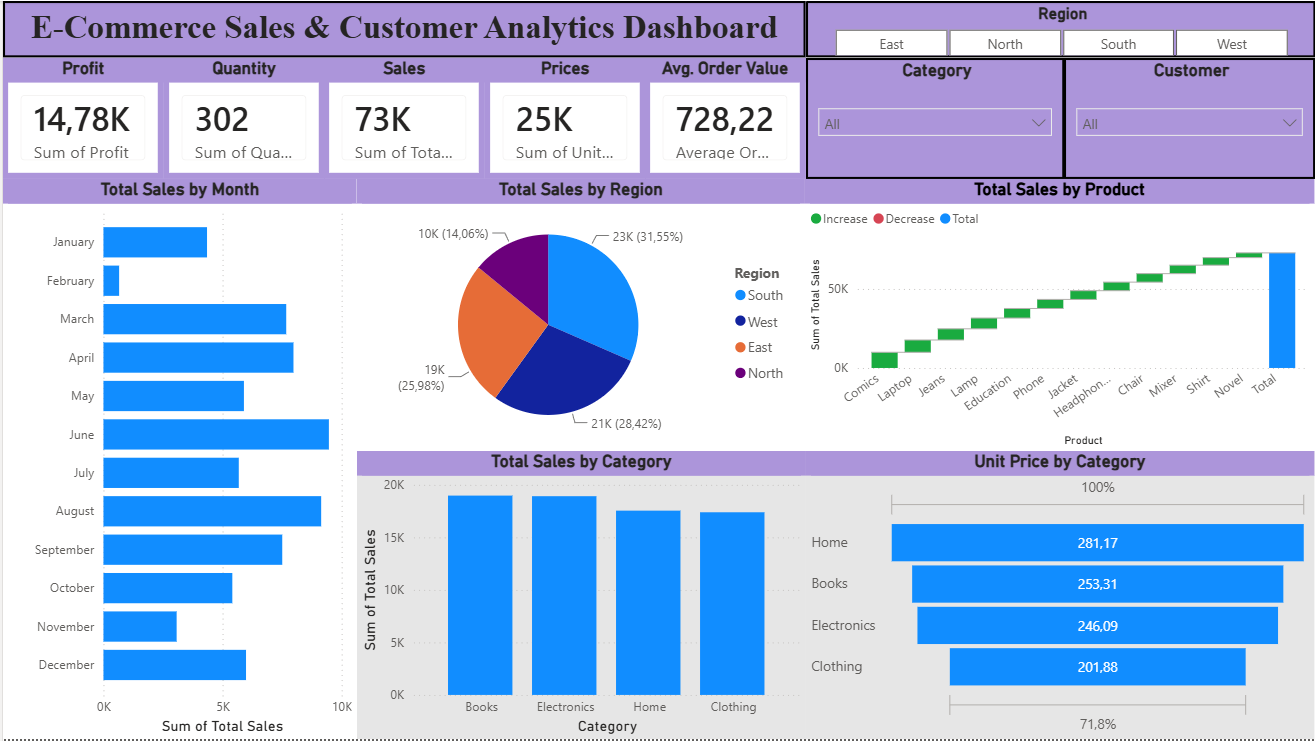

This screenshot's page, from the dashboard's own definition file:
{"tool":"powerbi","page":{"name":"Page 1","canvas":[1280,720],"ordinal":0},"visuals":[{"type":"textbox","box":[0,0,783,55.4],"z":0},{"type":"cardVisual","title":"Profit","fields":{"Data":["Sum(Sales_Data.Profit)"]},"box":[0,55.4,156.6,117.7],"z":1000},{"type":"cardVisual","title":"Quantity","fields":{"Data":["Sum(Sales_Data.Quantity)"]},"box":[156.6,55.4,156.6,117.7],"z":2000},{"type":"cardVisual","title":"Sales","fields":{"Data":["Sum(Sales_Data.Total_Sales)"]},"box":[313.2,55.4,156.6,117.7],"z":3000},{"type":"cardVisual","title":"Prices","fields":{"Data":["Sum(Sales_Data.Unit_Price)"]},"box":[469.8,55.4,156.6,117.7],"z":4000},{"type":"cardVisual","title":" Avg. Order Value","fields":{"Data":["Sales_Data.Measure"]},"box":[626.4,55.4,156.6,117.7],"z":5000},{"type":"slicer","title":"Region","fields":{"Values":["Sales_Data.Region"]},"box":[783,0,497,55.4],"z":6000},{"type":"slicer","title":"Category","fields":{"Values":["Sales_Data.Category"]},"box":[783.4,55.6,251.7,118],"z":7000},{"type":"slicer","title":"Customer","fields":{"Values":["Sales_Data.Customer"]},"box":[1035.1,55.6,244.9,118],"z":8000},{"type":"waterfallChart","title":"Total Sales by Product","fields":{"Category":["Sales_Data.Product"],"Y":["Sum(Sales_Data.Total_Sales)"]},"box":[782.4,173.7,496.6,265.4],"z":10000},{"type":"clusteredBarChart","title":"Total Sales by Month","fields":{"Category":["Sales_Data.Date.Variation.Date Hierarchy.Month"],"Y":["Sum(Sales_Data.Total_Sales)"]},"box":[0,173.7,345.4,546.3],"z":11000},{"type":"pieChart","title":"Total Sales by Region ","fields":{"Category":["Sales_Data.Region"],"Y":["Sum(Sales_Data.Total_Sales)"]},"box":[345.4,173.7,437.1,265.4],"z":12000},{"type":"columnChart","title":"Total Sales by Category","fields":{"Category":["Sales_Data.Category"],"Y":["Sum(Sales_Data.Total_Sales)"]},"box":[345.4,439,438,281],"z":13000},{"type":"funnel","title":"Unit Price by Category","fields":{"Y":["Avg(Online Sales.Unit Price)"],"Category":["Online Sales.Category"]},"box":[783.4,439,495.6,281],"z":13001}]}

Visuals, with their boxes in screenshot pixels (x1, y1, x2, y2), scaled from the page's 1280x720 canvas onto the 1315x741 screenshot:
textbox: x1=0, y1=0, x2=804, y2=57
"Profit" cardVisual: x1=0, y1=57, x2=161, y2=178
"Quantity" cardVisual: x1=161, y1=57, x2=322, y2=178
"Sales" cardVisual: x1=322, y1=57, x2=483, y2=178
"Prices" cardVisual: x1=483, y1=57, x2=644, y2=178
" Avg. Order Value" cardVisual: x1=644, y1=57, x2=804, y2=178
"Region" slicer: x1=804, y1=0, x2=1314, y2=57
"Category" slicer: x1=805, y1=57, x2=1063, y2=179
"Customer" slicer: x1=1063, y1=57, x2=1314, y2=179
"Total Sales by Product" waterfallChart: x1=804, y1=179, x2=1314, y2=452
"Total Sales by Month" clusteredBarChart: x1=0, y1=179, x2=355, y2=740
"Total Sales by Region " pieChart: x1=355, y1=179, x2=804, y2=452
"Total Sales by Category" columnChart: x1=355, y1=452, x2=805, y2=740
"Unit Price by Category" funnel: x1=805, y1=452, x2=1314, y2=740
